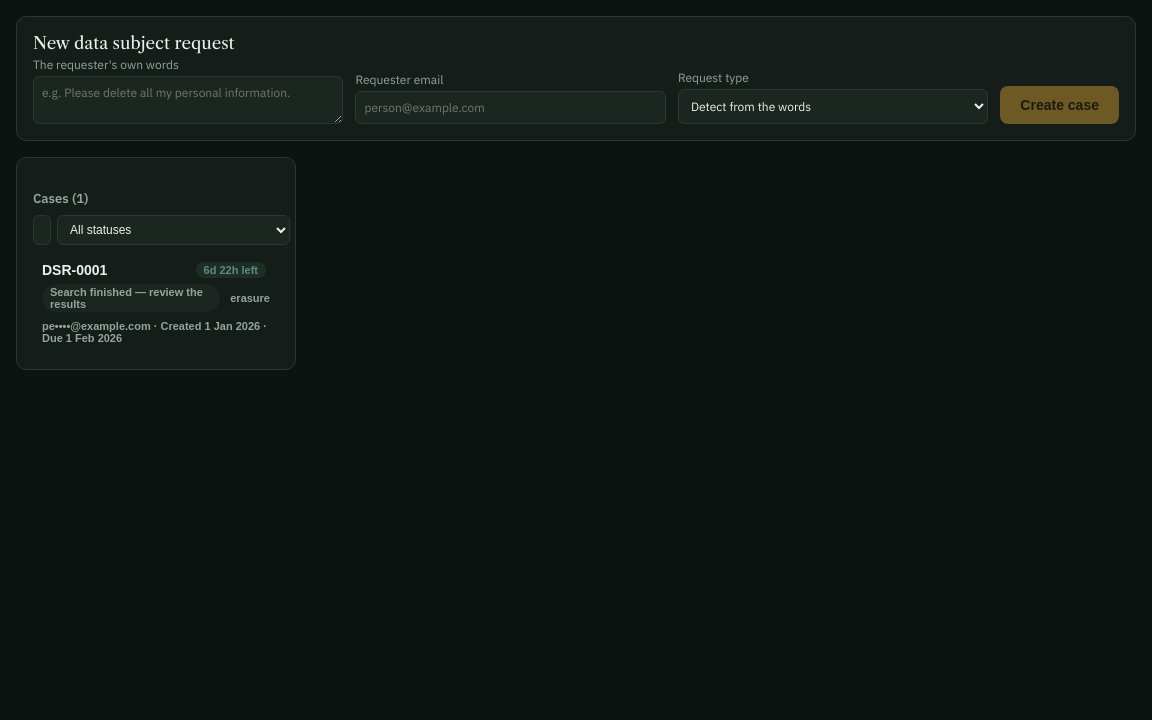
it: DsrDashboard: evidence tab reflects actual search outcome, not just evidence count › genuine zero-match: a completed search says so, distinctly from a failure
Check: the text "DSR-0001" is shown, box 42,262 -> 107,278
Click the button "DSR-0001". click: (156, 303)
box: 33,253 -> 279,353
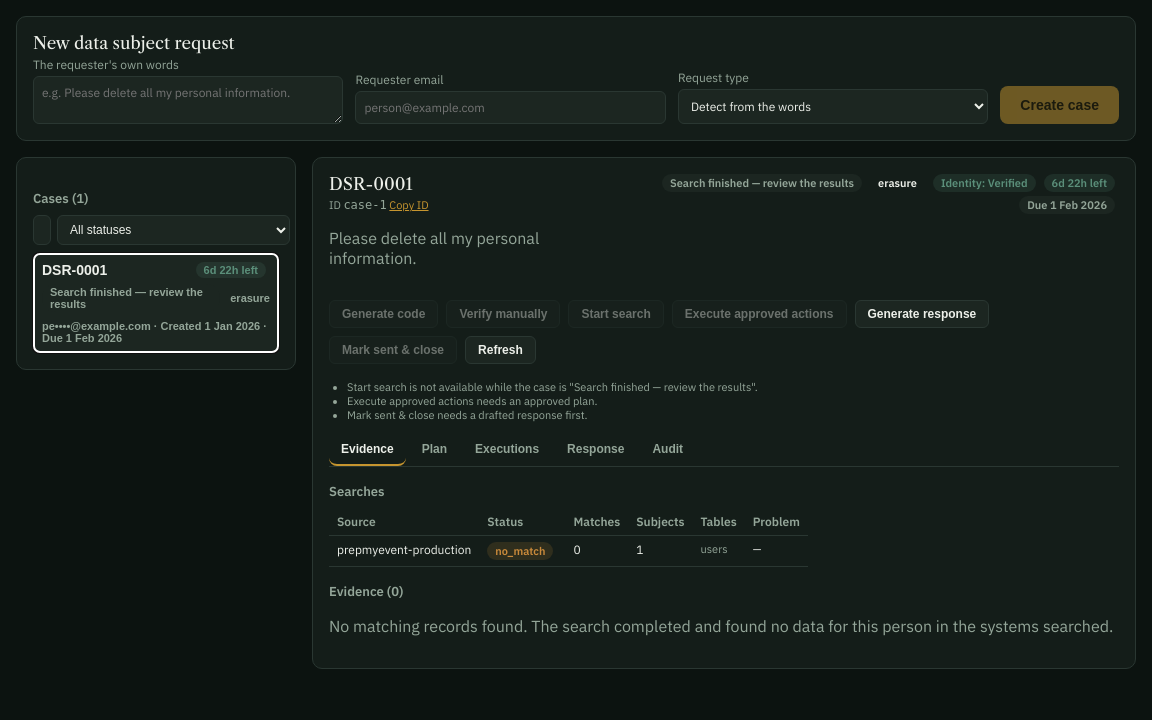
Check: the heading "DSR-0001" is shown, box 329,174 -> 413,194
Check: the heading "Evidence (0)" is shown, box 329,583 -> 403,600
Check: the text "No matching records found. The search completed and found no data for this person in the systems searched." is shown, box 329,616 -> 1113,636
